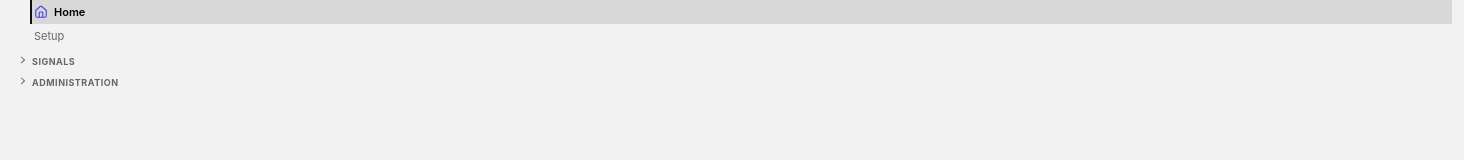
TreeNav › collapses parent when toggle is clicked again
This screenshot has width=1464, height=160.
Click the 1st button named "Expand": (21, 58) [13,50,29,66]
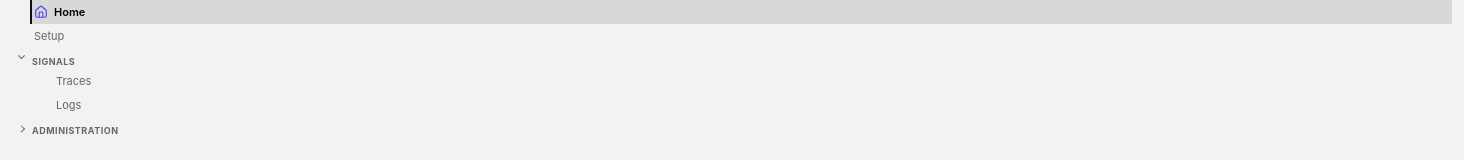
Check: the link "Traces" is shown, box [56,74,91,88]
Click the button named "Collapse": (21, 58) [13,50,29,66]
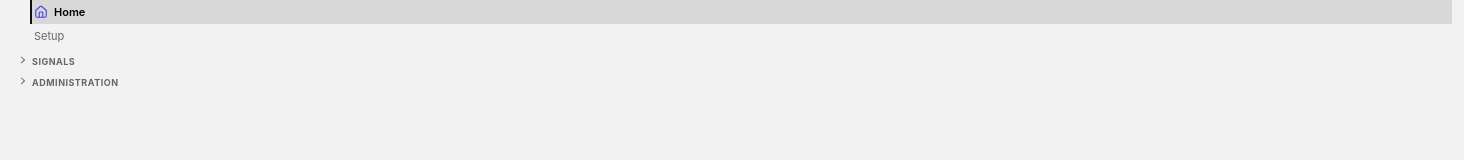
Check: the link "Traces" is gone
Check: the link "Logs" is gone
